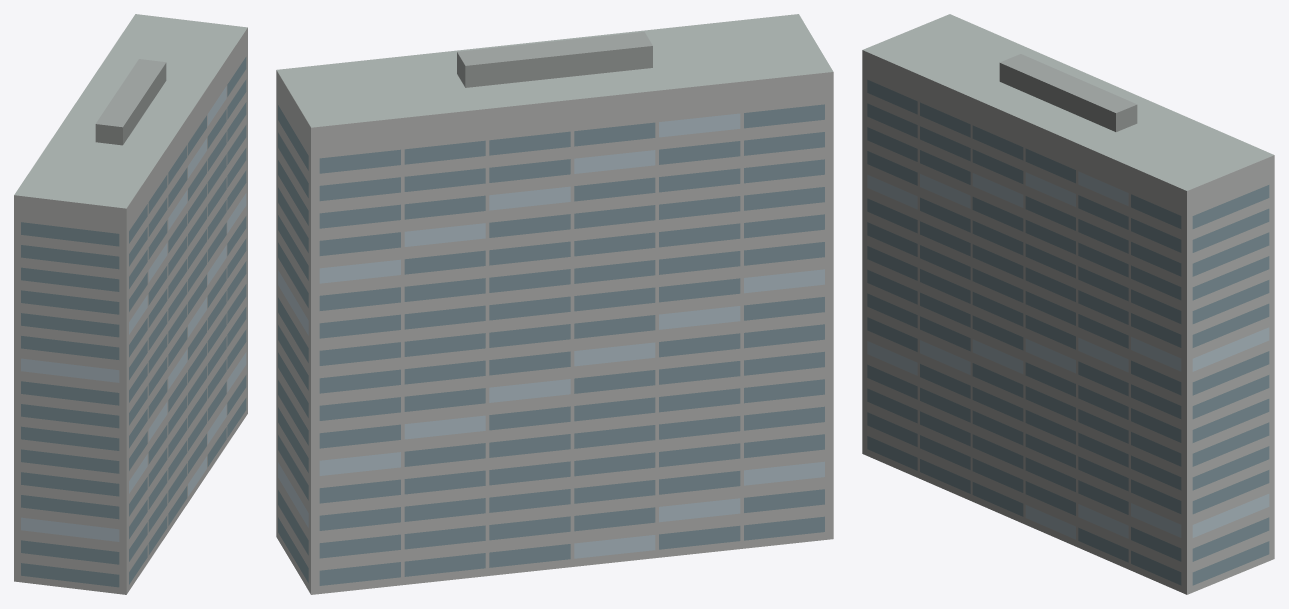
Rendered from fallback-raemian-blesstige-206.glb.
The picture shows the model from 3 angles, left to right: view 1: azimuth 30°, elevation 25°; view 2: azimuth 150°, elevation 25°; view 3: azimuth 270°, elevation 25°; orthographic projection. The views are drawn at different scales.
Parts seen in each view (by area): view 1: fallback-raemian-blesstige-206; view 2: fallback-raemian-blesstige-206; view 3: fallback-raemian-blesstige-206.
Boxes of the visible parts, x1,y1,x2,y2 form: fallback-raemian-blesstige-206: [14, 14, 247, 594]; fallback-raemian-blesstige-206: [276, 14, 833, 594]; fallback-raemian-blesstige-206: [862, 14, 1274, 594].
Bounding box in the file's own units: 45.81 × 51 × 45.06.
